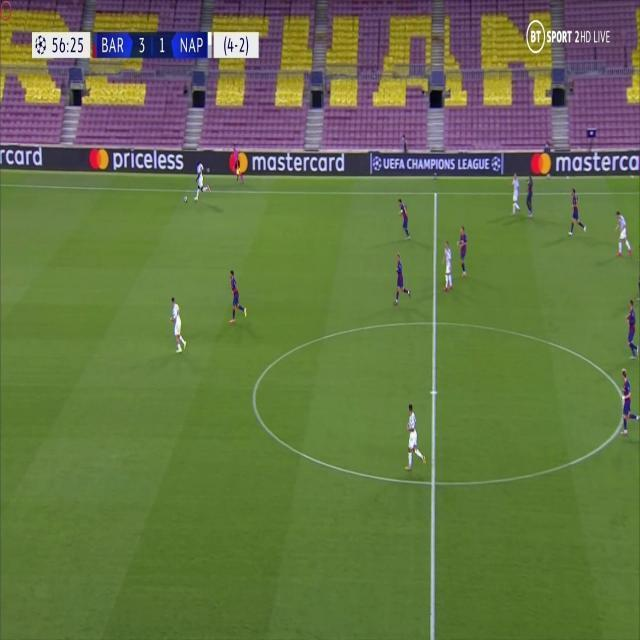ball: (183, 193, 188, 203)
player: (404, 401, 427, 471), (618, 366, 636, 437), (391, 250, 411, 308), (227, 267, 247, 323), (168, 294, 186, 354), (568, 183, 587, 237), (622, 297, 638, 360), (613, 208, 633, 257), (455, 223, 470, 278), (441, 238, 455, 292), (395, 200, 412, 240), (508, 169, 522, 214), (193, 157, 207, 201), (230, 143, 245, 183), (525, 171, 536, 217)
